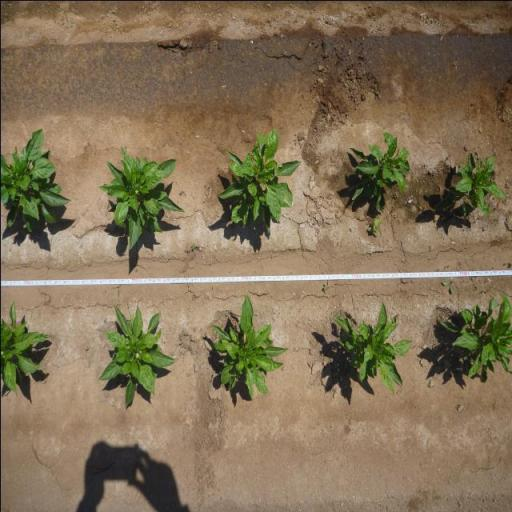plant: (213, 125, 301, 239), (96, 143, 188, 252), (94, 302, 176, 415), (207, 294, 287, 404), (0, 127, 72, 242), (331, 300, 413, 398), (435, 288, 512, 386), (343, 132, 412, 214), (0, 297, 51, 399), (436, 152, 508, 223)
weed: (365, 216, 383, 238), (441, 280, 455, 294), (504, 260, 512, 270), (322, 282, 328, 294), (190, 244, 196, 250), (84, 344, 88, 351)
